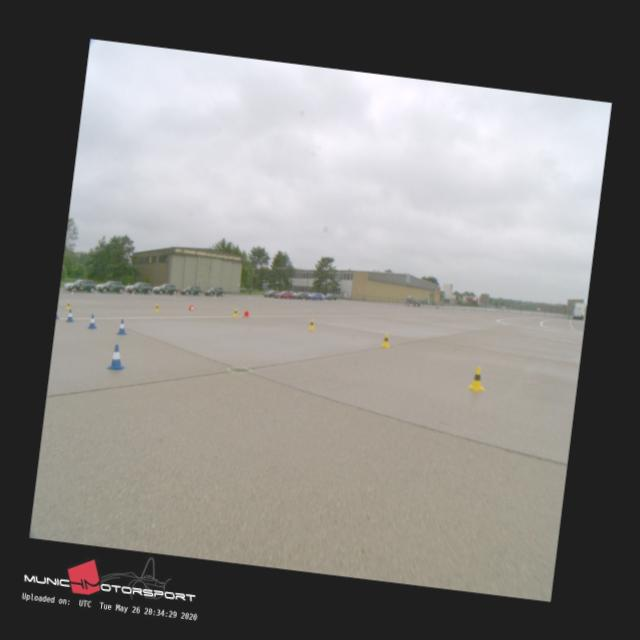blue_cone: (106, 344, 126, 371), (116, 318, 128, 334), (87, 313, 97, 328), (64, 308, 74, 322)
yellow_cone: (468, 366, 488, 392), (380, 332, 391, 347), (308, 318, 316, 329), (154, 302, 160, 312), (66, 300, 72, 309), (232, 308, 238, 316)
